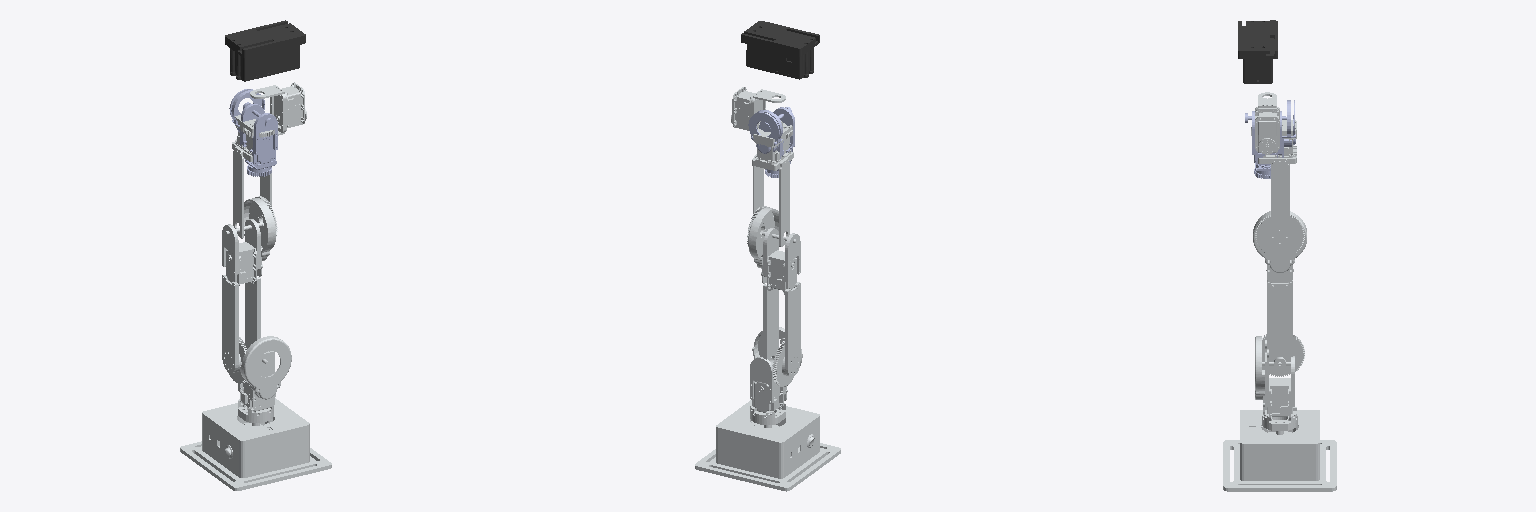
robot.urdf — svenzva_description:
<robot
  name="svenzva_description">
  <link
    name="base_link">
    <inertial>
      <origin
        xyz="-0.00126665261387236 -0.00244642678986311 0.0184450079386729"
        rpy="0 0 0" />
      <mass
        value="0.761337238502044" />
      <inertia
        ixx="0.0020453842804903"
        ixy="-1.43470370724492E-05"
        ixz="4.8995895527518E-06"
        iyy="0.00200071769187068"
        iyz="1.33787005826615E-05"
        izz="0.00316605842402433" />
    </inertial>
    <visual>
      <origin
        xyz="0 0 0"
        rpy="0 0 0" />
      <geometry>
        <mesh
          filename="package://svenzva_description/meshes/base_link.STL" />
      </geometry>
      <material
        name="">
        <color
          rgba="0.898039215686275 0.917647058823529 0.929411764705882 1" />
      </material>
    </visual>
    <collision>
      <origin
        xyz="0 0 0"
        rpy="0 0 0" />
      <geometry>
        <mesh
          filename="package://svenzva_description/meshes/base_link.STL" />
      </geometry>
    </collision>
  </link>
  <link
    name="link_1">
    <inertial>
      <origin
        xyz="-0.0052814956454282 2.92409530103371E-05 0.0481308455186286"
        rpy="0 0 0" />
      <mass
        value="0.295038974095265" />
      <inertia
        ixx="0.000602988556413193"
        ixy="1.76219719459096E-09"
        ixz="5.7428869750627E-05"
        iyy="0.000654953956407551"
        iyz="2.88195997194139E-07"
        izz="0.000153905341508729" />
    </inertial>
    <visual>
      <origin
        xyz="0 0 0"
        rpy="0 0 0" />
      <geometry>
        <mesh
          filename="package://svenzva_description/meshes/link_1.STL" />
      </geometry>
      <material
        name="">
        <color
          rgba="0.898039215686275 0.917647058823529 0.929411764705882 1" />
      </material>
    </visual>
    <collision>
      <origin
        xyz="0 0 0"
        rpy="0 0 0" />
      <geometry>
        <mesh
          filename="package://svenzva_description/meshes/link_1.STL" />
      </geometry>
    </collision>
  </link>
  <joint
    name="joint_1"
    type="revolute">
    <origin
      xyz="0 0 0.0762"
      rpy="0 0 -4.404E-17" />
    <parent
      link="base_link" />
    <child
      link="link_1" />
    <axis
      xyz="0 0 -1" />
    <limit
      lower="-3.14"
      upper="3.14"
      effort="0"
      velocity="0" />
  </joint>
  <link
    name="link_2">
    <inertial>
      <origin
        xyz="8.32610049628091E-07 0.11949058572894 0.0121926762498804"
        rpy="0 0 0" />
      <mass
        value="0.344381379534998" />
      <inertia
        ixx="0.00284991805712312"
        ixy="-6.35957537886936E-09"
        ixz="-1.70985027691838E-09"
        iyy="0.00019516648672943"
        iyz="0.00023450953851523"
        izz="0.00278328071725567" />
    </inertial>
    <visual>
      <origin
        xyz="0 0 0"
        rpy="0 0 0" />
      <geometry>
        <mesh
          filename="package://svenzva_description/meshes/link_2.STL" />
      </geometry>
      <material
        name="">
        <color
          rgba="0.898039215686275 0.917647058823529 0.929411764705882 1" />
      </material>
    </visual>
    <collision>
      <origin
        xyz="0 0 0"
        rpy="0 0 0" />
      <geometry>
        <mesh
          filename="package://svenzva_description/meshes/link_2.STL" />
      </geometry>
    </collision>
  </link>
  <joint
    name="joint_2"
    type="revolute">
    <origin
      xyz="-0.007325 0 0.10542"
      rpy="1.5708 0 -1.5708" />
    <parent
      link="link_1" />
    <child
      link="link_2" />
    <axis
      xyz="0 0 -1" />
    <limit
      lower="-2"
      upper="2"
      effort="0"
      velocity="0" />
  </joint>
  <link
    name="link_3">
    <inertial>
      <origin
        xyz="-0.00197019590868237 0.0426227538119848 0.0168830000311054"
        rpy="0 0 0" />
      <mass
        value="0.196650631153951" />
      <inertia
        ixx="0.000427709874683083"
        ixy="1.96165723007484E-05"
        ixz="-3.81523166042413E-06"
        iyy="0.000103284735637014"
        iyz="5.91659027527963E-05"
        izz="0.00043375428535126" />
    </inertial>
    <visual>
      <origin
        xyz="0 0 0"
        rpy="0 0 0" />
      <geometry>
        <mesh
          filename="package://svenzva_description/meshes/link_3.STL" />
      </geometry>
      <material
        name="">
        <color
          rgba="0.898039215686275 0.917647058823529 0.929411764705882 1" />
      </material>
    </visual>
    <collision>
      <origin
        xyz="0 0 0"
        rpy="0 0 0" />
      <geometry>
        <mesh
          filename="package://svenzva_description/meshes/link_3.STL" />
      </geometry>
    </collision>
  </link>
  <joint
    name="joint_3"
    type="revolute">
    <origin
      xyz="0 0.2277 0.00635"
      rpy="3.1416 -2.0986E-16 3.1416" />
    <parent
      link="link_2" />
    <child
      link="link_3" />
    <axis
      xyz="0 0 -1" />
    <limit
      lower="-2"
      upper="2"
      effort="0"
      velocity="0" />
  </joint>
  <link
    name="link_4">
    <inertial>
      <origin
        xyz="-0.00513228807023979 -1.92178228225759E-05 0.0512280578881177"
        rpy="0 0 0" />
      <mass
        value="0.171727164051589" />
      <inertia
        ixx="0.000148940186221268"
        ixy="-2.95237943712108E-09"
        ixz="1.55318077169264E-05"
        iyy="0.000197291015634773"
        iyz="1.20466520102336E-08"
        izz="8.7282898263609E-05" />
    </inertial>
    <visual>
      <origin
        xyz="0 0 0"
        rpy="0 0 0" />
      <geometry>
        <mesh
          filename="package://svenzva_description/meshes/link_4.STL" />
      </geometry>
      <material
        name="">
        <color
          rgba="0.792156862745098 0.819607843137255 0.933333333333333 1" />
      </material>
    </visual>
    <collision>
      <origin
        xyz="0 0 0"
        rpy="0 0 0" />
      <geometry>
        <mesh
          filename="package://svenzva_description/meshes/link_4.STL" />
      </geometry>
    </collision>
  </link>
  <joint
    name="joint_4"
    type="revolute">
    <origin
      xyz="-0.020448 0.11835 0.0083512"
      rpy="-1.5672 1.5708 0" />
    <parent
      link="link_3" />
    <child
      link="link_4" />
    <axis
      xyz="0 0 1" />
    <limit
      lower="-5.0"
      upper="3.867165"
      effort="0"
      velocity="0" />
  </joint>
  <link
    name="link_5">
    <inertial>
      <origin
        xyz="0.00036477266016724 0.0375145178001142 0.000241811970300506"
        rpy="0 0 0" />
      <mass
        value="0.13919813472784" />
      <inertia
        ixx="0.000125530449074806"
        ixy="2.55442721360288E-07"
        ixz="-6.79678647316977E-08"
        iyy="0.000107317847378674"
        iyz="-6.19328117992915E-06"
        izz="0.000100129779938874" />
    </inertial>
    <visual>
      <origin
        xyz="0 0 0"
        rpy="0 0 0" />
      <geometry>
        <mesh
          filename="package://svenzva_description/meshes/link_5.STL" />
      </geometry>
      <material
        name="">
        <color
          rgba="0.898039215686275 0.917647058823529 0.929411764705882 1" />
      </material>
    </visual>
    <collision>
      <origin
        xyz="0 0 0"
        rpy="0 0 0" />
      <geometry>
        <mesh
          filename="package://svenzva_description/meshes/link_5.STL" />
      </geometry>
    </collision>
  </link>
  <joint
    name="joint_5"
    type="revolute">
    <origin
      xyz="-0.0010724 -2.0879E-05 0.08245"
      rpy="1.5708 -0.0035837 -1.5708" />
    <parent
      link="link_4" />
    <child
      link="link_5" />
    <axis
      xyz="0 0 -1" />
    <limit
      lower="-1.7"
      upper="1.7"
      effort="0"
      velocity="0" />
  </joint>
  <link
    name="link_6">
    <inertial>
      <origin
        xyz="2.57945868827325E-05 0.00459904694198129 -0.0327482586378685"
        rpy="0 0 0" />
      <mass
        value="0.243320868687054" />
      <inertia
        ixx="0.000326394043598111"
        ixy="3.96748456591628E-06"
        ixz="1.11931240417045E-08"
        iyy="0.000160203347703919"
        iyz="-1.08510273871772E-05"
        izz="0.000294334543426168" />
    </inertial>
    <visual>
      <origin
        xyz="0 0 0"
        rpy="0 0 0" />
      <geometry>
        <mesh
          filename="package://svenzva_description/meshes/link_6.STL" />
      </geometry>
      <material
        name="">
        <color
          rgba="0.298039215686275 0.298039215686275 0.298039215686275 1" />
      </material>
    </visual>
    <collision>
      <origin
        xyz="0 0 0"
        rpy="0 0 0" />
      <geometry>
        <mesh
          filename="package://svenzva_description/meshes/link_6.STL" />
      </geometry>
    </collision>
  </link>
  <joint
    name="joint_6"
    type="revolute">
    <origin
      xyz="-0.014463 0.080052 0.001425"
      rpy="1.5744 -1.5708 0" />
    <parent
      link="link_5" />
    <child
      link="link_6" />
    <axis
      xyz="0 0 -1" />
    <limit
      lower="-1.565"
      upper="1.565"
      effort="0"
      velocity="0" />
  </joint>
  <link
    name="finger_link_1">
    <inertial>
      <origin
        xyz="-0.00483282204262809 -0.00411403012500923 0.0206210772714723"
        rpy="0 0 0" />
      <mass
        value="0.0220307791071739" />
      <inertia
        ixx="9.08331950596468E-06"
        ixy="-2.05394082888464E-06"
        ixz="-2.23772944669454E-06"
        iyy="1.04239718244321E-05"
        iyz="-2.75990314800171E-06"
        izz="9.60841591398502E-06" />
    </inertial>
    <visual>
      <origin
        xyz="0 0 0"
        rpy="0 0 0" />
      <geometry>
        <mesh
          filename="package://svenzva_description/meshes/finger_link_1.STL" />
      </geometry>
      <material
        name="">
        <color
          rgba="0.898039215686275 0.917647058823529 0.929411764705882 1" />
      </material>
    </visual>
    <collision>
      <origin
        xyz="0 0 0"
        rpy="0 0 0" />
      <geometry>
        <mesh
          filename="package://svenzva_description/meshes/finger_link_1.STL" />
      </geometry>
    </collision>
  </link>
  <joint
    name="finger_joint_1"
    type="prismatic">
    <origin
      xyz="0 0 -0.052509"
      rpy="-3.1416 -1.8964E-18 3.1416" />
    <parent
      link="link_6" />
    <child
      link="finger_link_1" />
    <axis
      xyz="0 1 0" />
    <limit
      lower="0"
      upper="0.05"
      effort="0"
      velocity="0" />
  </joint>
  <link
    name="finger_joint_2">
    <inertial>
      <origin
        xyz="0.00483282233149502 0.00411402197005728 0.020621076918268"
        rpy="0 0 0" />
      <mass
        value="0.0220307791071739" />
      <inertia
        ixx="9.08331950596466E-06"
        ixy="-2.05394082888463E-06"
        ixz="2.23772944669453E-06"
        iyy="1.04239718244321E-05"
        iyz="2.75990314800169E-06"
        izz="9.60841591398501E-06" />
    </inertial>
    <visual>
      <origin
        xyz="0 0 0"
        rpy="0 0 0" />
      <geometry>
        <mesh
          filename="package://svenzva_description/meshes/finger_joint_2.STL" />
      </geometry>
      <material
        name="">
        <color
          rgba="0.898039215686275 0.917647058823529 0.929411764705882 1" />
      </material>
    </visual>
    <collision>
      <origin
        xyz="0 0 0"
        rpy="0 0 0" />
      <geometry>
        <mesh
          filename="package://svenzva_description/meshes/finger_joint_2.STL" />
      </geometry>
    </collision>
  </link>
  <joint
    name="finger_joint_2"
    type="prismatic">
    <origin
      xyz="0 0 -0.052509"
      rpy="-3.1416 -1.8964E-18 3.1416" />
    <parent
      link="link_6" />
    <child
      link="finger_joint_2" />
    <axis
      xyz="0 1 0" />
    <limit
      lower="-0.05"
      upper="0"
      effort="0"
      velocity="0" />
  </joint>
</robot>

--- Facts derived from the render (not from the file) ---
The picture shows the robot from 3 angles, left to right: view 1: azimuth 30°, elevation 25°; view 2: azimuth 150°, elevation 25°; view 3: azimuth 270°, elevation 25°; orthographic projection.
Model svenzva_description with 9 links and 8 joints (6 revolute, 2 prismatic), rooted at base_link, posed all joints at 0.
Links seen in each view (by area): view 1: base_link, link_2, link_6, link_1, link_4, link_3, link_5; view 2: base_link, link_2, link_6, link_3, link_1, link_4, link_5; view 3: base_link, link_2, link_3, link_1, link_6, link_5, link_4.
Boxes of the visible links, x1=… form: base_link: x1=180, y1=398, x2=331, y2=490; link_2: x1=222, y1=198, x2=275, y2=383; link_6: x1=225, y1=20, x2=305, y2=81; link_1: x1=238, y1=336, x2=291, y2=422; link_4: x1=229, y1=89, x2=277, y2=176; link_3: x1=232, y1=113, x2=277, y2=244; link_5: x1=243, y1=82, x2=306, y2=137; base_link: x1=695, y1=400, x2=840, y2=491; link_2: x1=748, y1=207, x2=800, y2=386; link_6: x1=741, y1=21, x2=819, y2=79; link_3: x1=747, y1=121, x2=793, y2=252; link_1: x1=750, y1=327, x2=802, y2=424; link_4: x1=748, y1=107, x2=794, y2=177; link_5: x1=731, y1=87, x2=792, y2=138; base_link: x1=1223, y1=410, x2=1336, y2=491; link_2: x1=1253, y1=211, x2=1306, y2=376; link_3: x1=1255, y1=120, x2=1304, y2=258; link_1: x1=1255, y1=336, x2=1297, y2=430; link_6: x1=1238, y1=20, x2=1277, y2=83; link_5: x1=1251, y1=92, x2=1279, y2=154; link_4: x1=1245, y1=100, x2=1295, y2=178.
Size in the robot's own frame: 0.1778 by 0.1778 by 0.7484 metres.
7 mesh visuals loaded from 9 distinct referenced files (7 binary STL); not drawn: 2 (reference not matched to a file when rendering).
